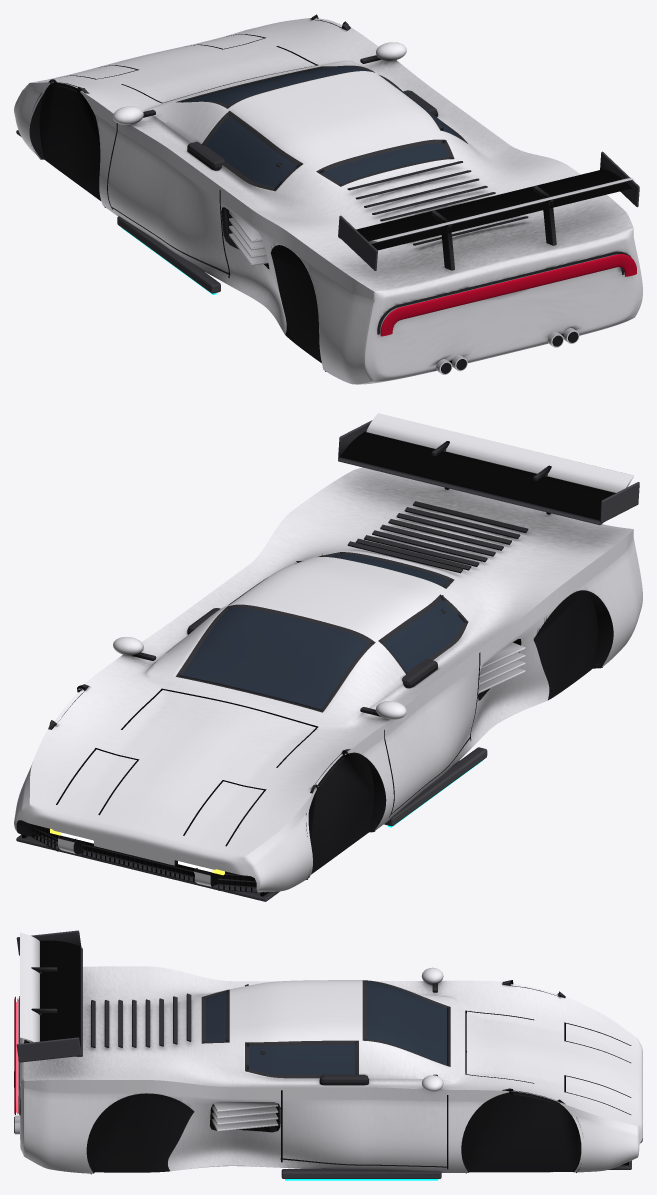
File: razor.glb
The picture shows the model from 3 angles, top to bottom: view 1: azimuth 30°, elevation 25°; view 2: azimuth 150°, elevation 25°; view 3: azimuth 270°, elevation 25°; orthographic projection. The views are drawn at different scales.
Parts seen in each view (by area): view 1: body, glass_panes, wing, tail_lens, part.042, wing.001, part.033, tail_housing, dash, part.036; view 2: body, glass_panes, wing, wing.001, part.039, part.042, object 6, part.033, dash; view 3: body, glass_panes, wing, wing.001, part.044, part.036, dash, part.033, part.011, part.008, part.010, part.009 (+1 smaller).
Boxes of the visible parts, <box> form: body: <box>14,17,642,384</box>; glass_panes: <box>182,66,461,187</box>; wing: <box>338,169,631,250</box>; tail_lens: <box>380,254,636,336</box>; part.042: <box>117,216,220,293</box>; wing.001: <box>369,178,634,243</box>; part.033: <box>338,215,377,270</box>; tail_housing: <box>377,251,630,334</box>; dash: <box>187,90,437,170</box>; part.036: <box>600,151,639,207</box>; body: <box>14,467,642,892</box>; glass_panes: <box>182,554,463,709</box>; wing: <box>338,431,615,525</box>; wing.001: <box>366,413,634,492</box>; part.039: <box>16,834,279,901</box>; part.042: <box>384,747,487,826</box>; object 6: <box>81,841,197,883</box>; part.033: <box>600,482,639,523</box>; dash: <box>187,608,437,688</box>; body: <box>20,966,642,1173</box>; glass_panes: <box>205,981,446,1074</box>; wing: <box>26,940,82,1056</box>; wing.001: <box>20,932,39,1042</box>; part.044: <box>281,1169,441,1178</box>; part.036: <box>16,1037,81,1062</box>; dash: <box>319,1074,368,1085</box>; part.033: <box>16,930,81,955</box>; part.011: <box>213,1102,278,1112</box>; part.008: <box>211,1118,278,1131</box>; part.010: <box>211,1106,278,1118</box>; part.009: <box>211,1112,278,1124</box>.
Size of the model in its own units: 2.09 by 1.14 by 4.61.
